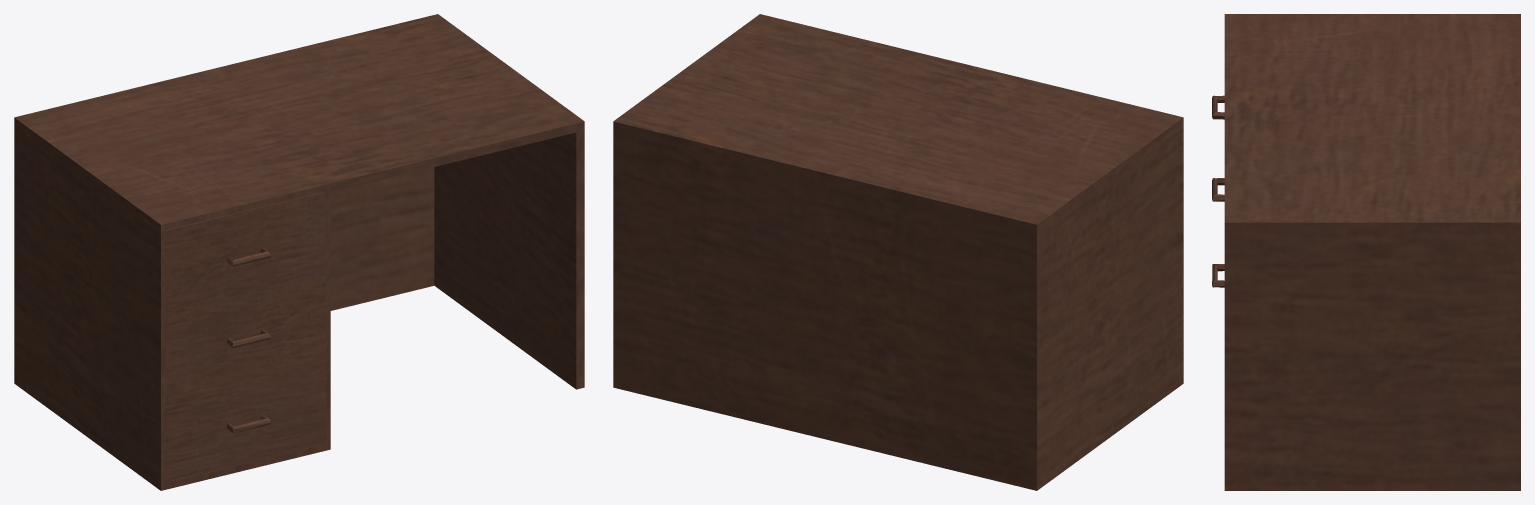
File: stol.glb
The picture shows the model from 3 angles, left to right: view 1: azimuth 30°, elevation 25°; view 2: azimuth 150°, elevation 25°; view 3: azimuth 270°, elevation 25°; orthographic projection.
Parts seen in each view (by area): view 1: table, drawer2, drawer3, drawer1; view 2: table; view 3: table.
Boxes of the visible parts, box(x1,y1,x2,y2) form: table: box(14, 14, 584, 490); drawer2: box(165, 273, 326, 397); drawer3: box(165, 359, 326, 482); drawer1: box(165, 191, 326, 312); table: box(613, 14, 1183, 490); table: box(1224, 14, 1520, 490).
Bounding box in the file's own units: 1.25 × 0.75 × 0.7821.
1 material, 1 textured.
